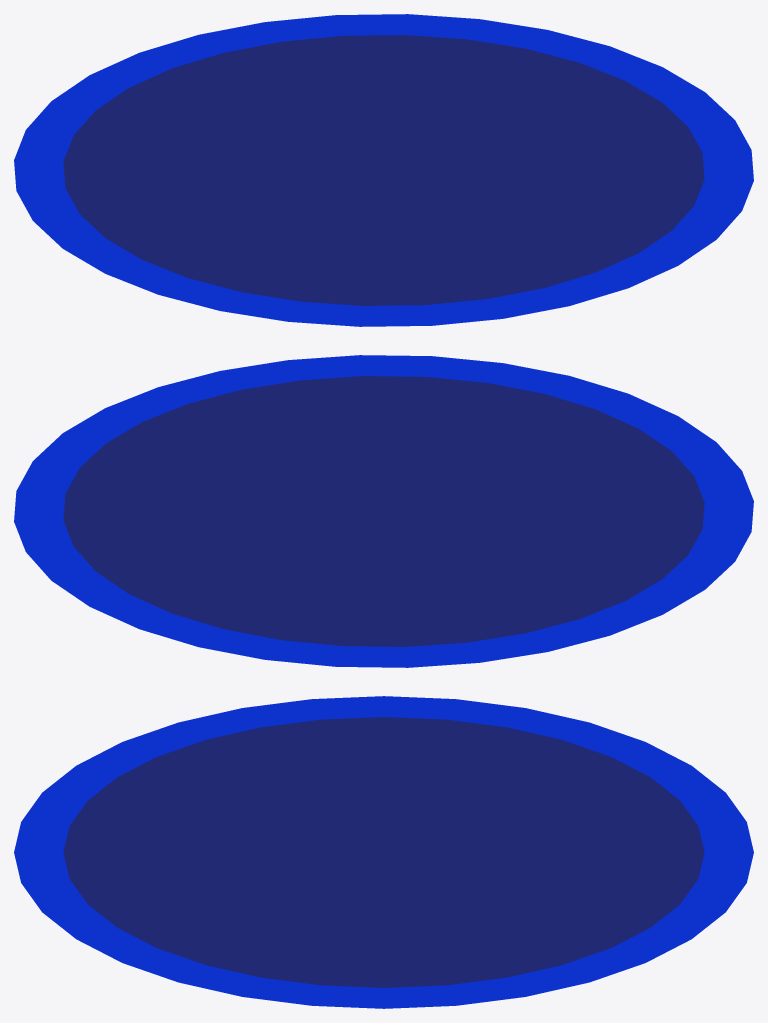
The model's file is selection_circle.glb.
3 views of the same model, one above another, from view 1: azimuth 30°, elevation 25°; view 2: azimuth 150°, elevation 25°; view 3: azimuth 270°, elevation 25° (orthographic).
Visible parts, largest first — view 1: Circle; view 2: Circle; view 3: Circle.
Part boxes in pixels (left/top/right/bottom): Circle: left=14, top=14, right=753, bottom=326; Circle: left=14, top=355, right=753, bottom=667; Circle: left=14, top=696, right=753, bottom=1008.
Bounding box in the file's own units: 2 × 0 × 2.
